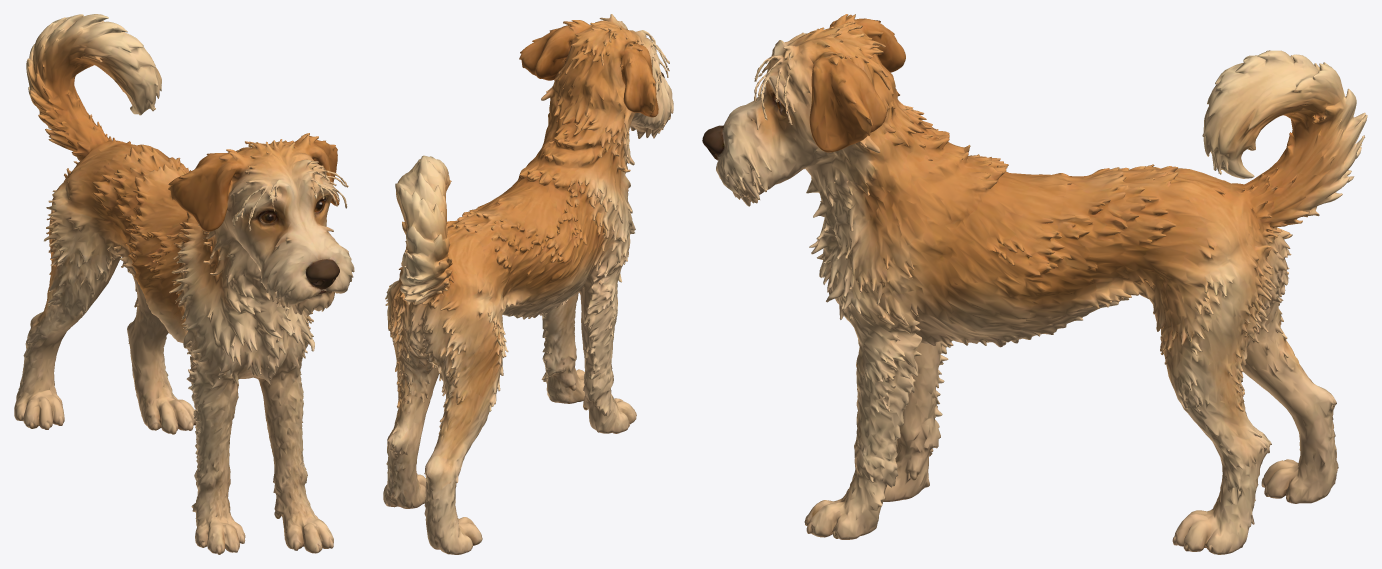
File: dog-buck.glb
3 renders of one model, left to right at view 1: azimuth 30°, elevation 25°; view 2: azimuth 150°, elevation 25°; view 3: azimuth 270°, elevation 25°, orthographic. The views are drawn at different scales.
Parts seen in each view (by area): view 1: tripo_node_65dcfa1b-abed-4a84-812c-a317bc31f3ed; view 2: tripo_node_65dcfa1b-abed-4a84-812c-a317bc31f3ed; view 3: tripo_node_65dcfa1b-abed-4a84-812c-a317bc31f3ed.
Part boxes in pixels (bbox=[...]): tripo_node_65dcfa1b-abed-4a84-812c-a317bc31f3ed: bbox=[14, 14, 354, 554]; tripo_node_65dcfa1b-abed-4a84-812c-a317bc31f3ed: bbox=[383, 14, 673, 554]; tripo_node_65dcfa1b-abed-4a84-812c-a317bc31f3ed: bbox=[702, 14, 1367, 554].
Size of the model in its own units: 0.3163 by 0.7865 by 0.9801.
Materials: 1 (1 with a texture image).
